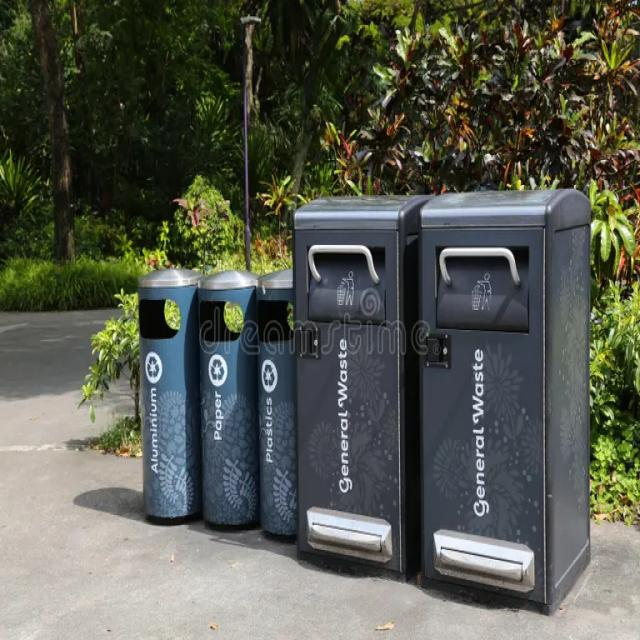bin_empty: (421, 190, 589, 610), (294, 196, 430, 577), (138, 265, 204, 521), (198, 267, 262, 528), (255, 264, 298, 538)
